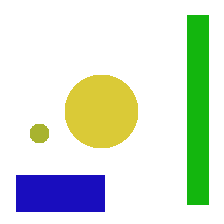circle: (65, 75, 137, 147), (30, 124, 48, 142)
rectangle: (187, 15, 208, 204), (16, 175, 104, 211)
